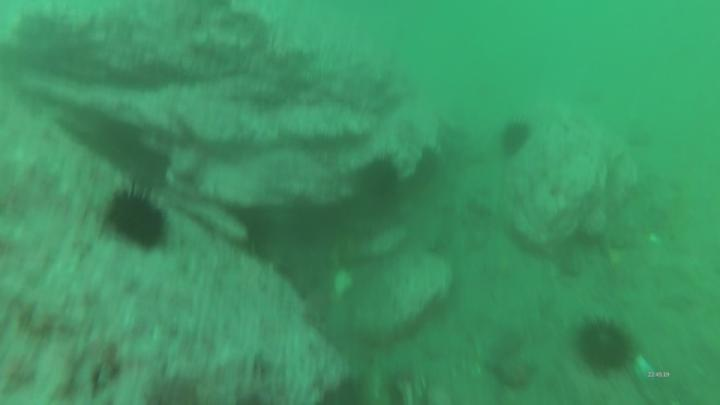echinus: (101, 181, 171, 254), (575, 314, 635, 380), (356, 155, 403, 207), (499, 118, 534, 159)
